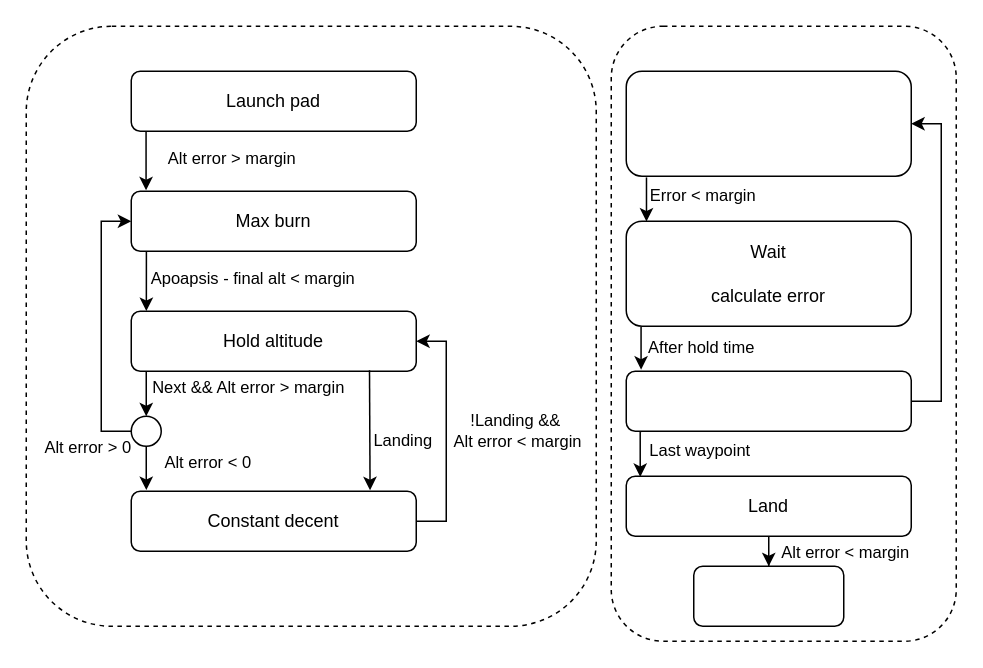
Some shapes in this 983 by 668 pixel diagram are drawn without their labels. The shapes that lost their labels are listed below. From the top down, each one's centre as x and y in pixels, then its label:
the point at 768,123: Current waypoint calculate apoapsis calculate error
the point at 768,400: Next waypoint
the point at 768,595: Landed
